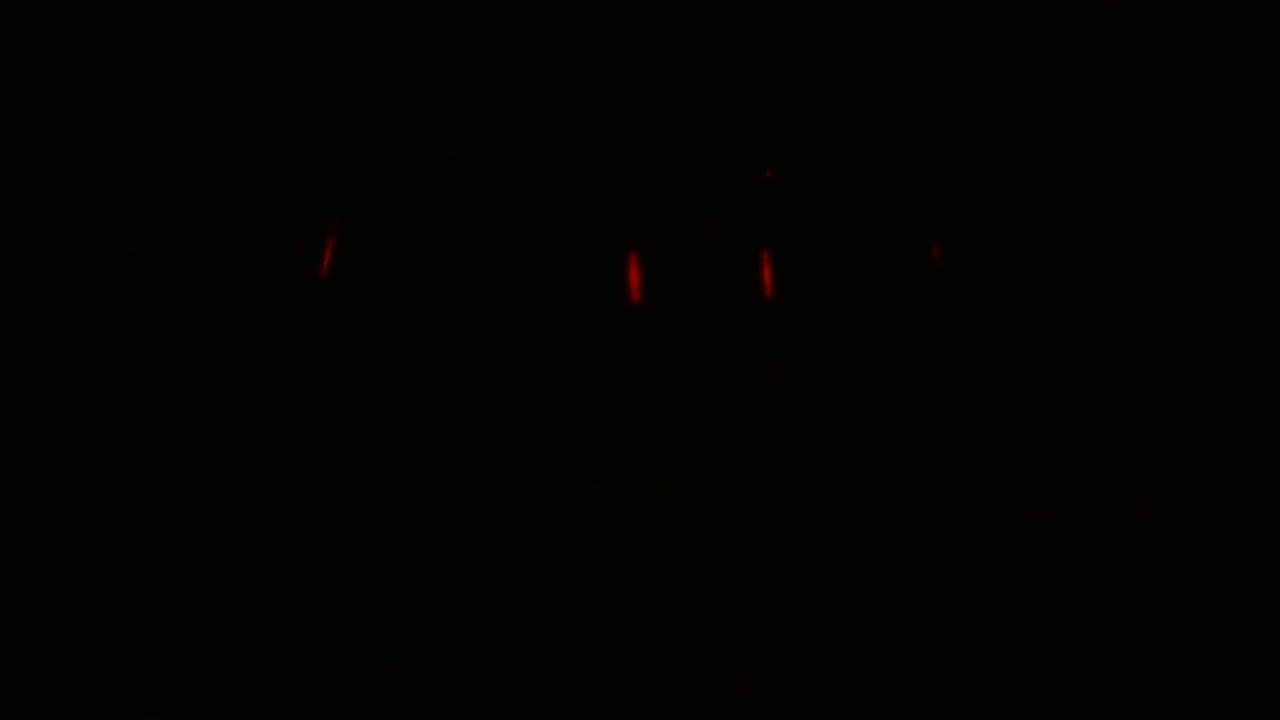pair1: (620, 233, 783, 312)
